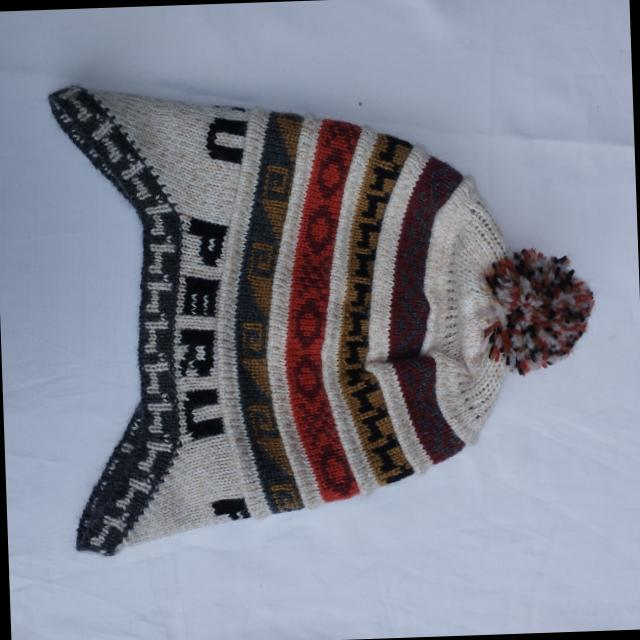Gorro: (46, 66, 602, 560)
